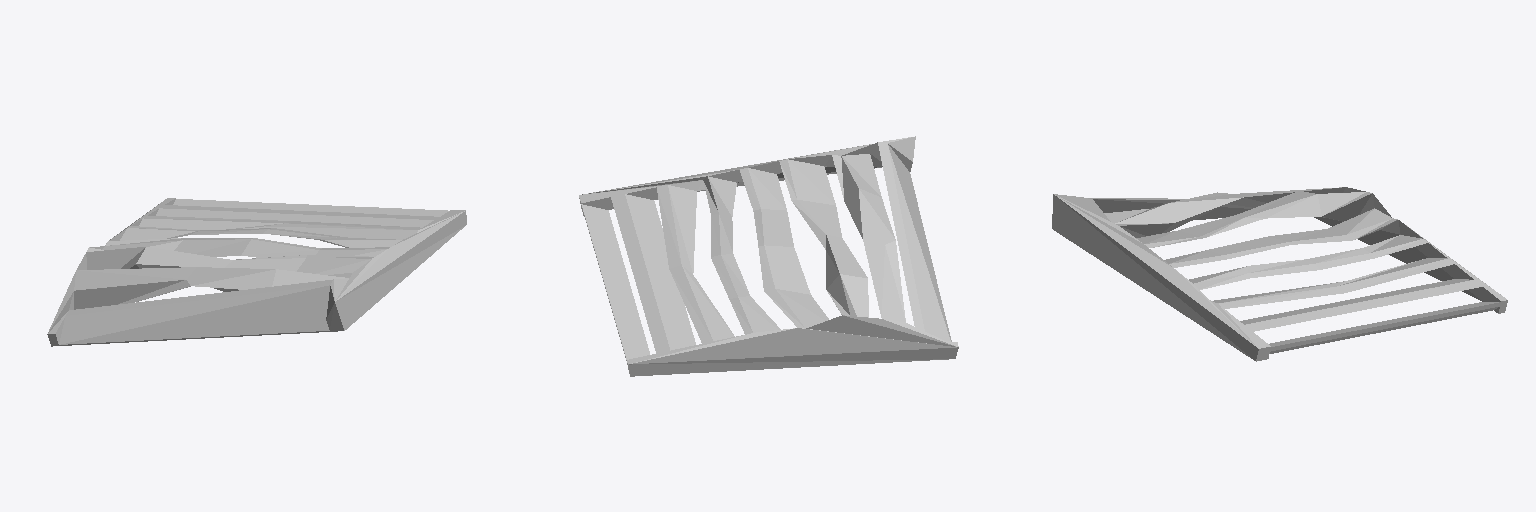
File: Vent_Remove13.obj
3 renders of one model, left to right at view 1: azimuth 30°, elevation 25°; view 2: azimuth 150°, elevation 25°; view 3: azimuth 270°, elevation 25°, orthographic.
Visible parts, largest first — view 1: Vent_Grate.003; view 2: Vent_Grate.003; view 3: Vent_Grate.003.
Part boxes in pixels (x1,y1,x2,y2): Vent_Grate.003: (47,198,466,346); Vent_Grate.003: (579,136,958,376); Vent_Grate.003: (1052,187,1507,361).
Bounding box in the file's own units: 0.9249 × 0.2168 × 0.9147.